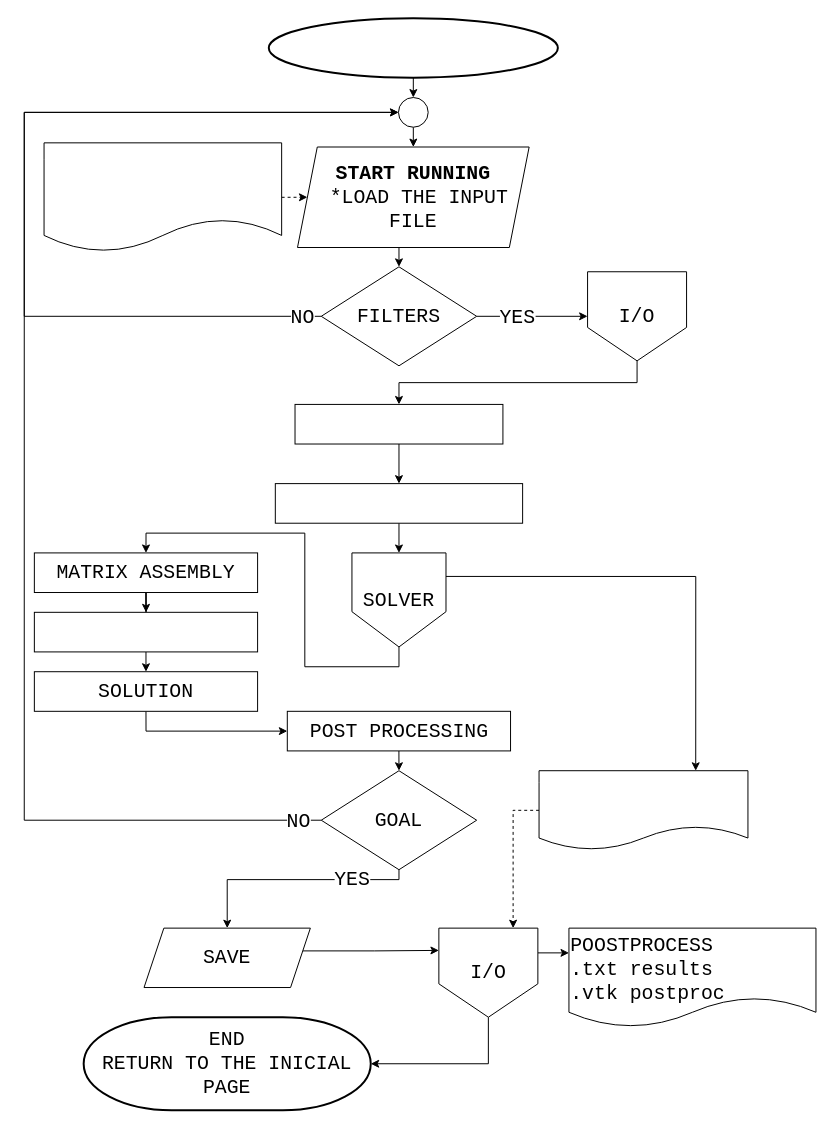
Some shapes in this 834 by 1128 pixel diagram are drawn without their labels. The shapes that lost their labels are listed below. From the top down, each one's box as (x1, y1, x2, y2) in pixels, then its label:
(267, 17, 558, 78): USER SCREEN
(43, 142, 282, 252): INPUT CARD .py input code
(294, 403, 503, 444): MODEL (+MESH)
(274, 483, 523, 523): PHYSIC
(33, 611, 258, 652): BC AND LOADS
(538, 770, 748, 850): SOLVER LOG OUT .txt solver status
